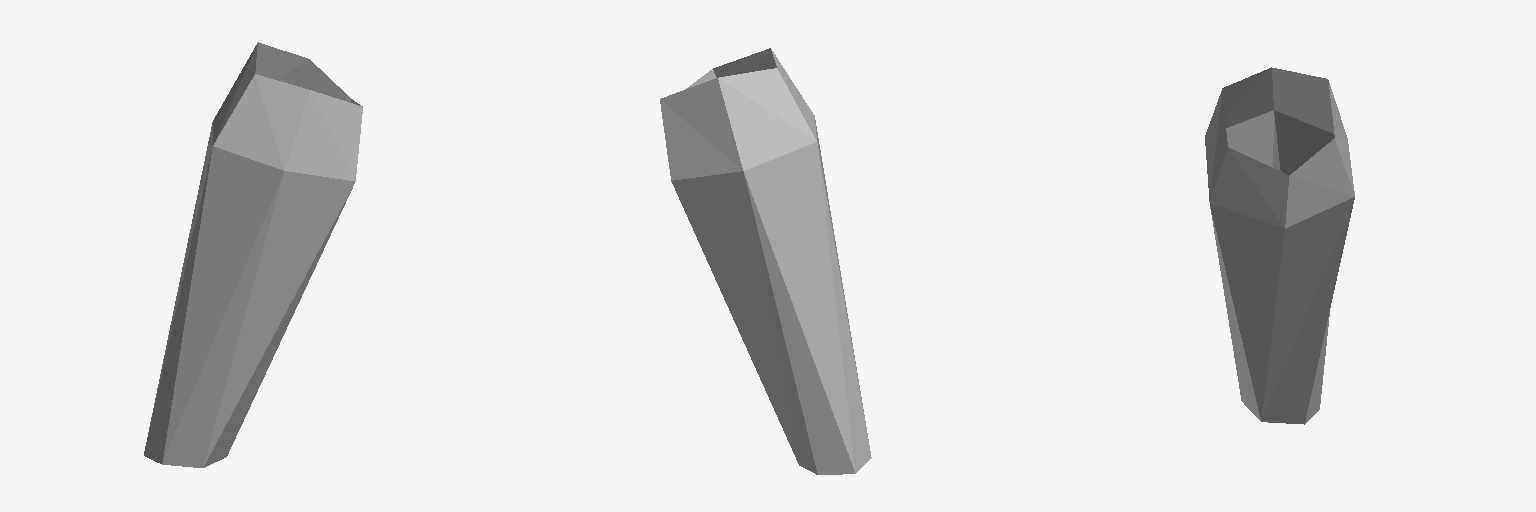
File: CodoDerecho.obj
The picture shows the model from 3 angles: view 1: azimuth 30°, elevation 25°; view 2: azimuth 150°, elevation 25°; view 3: azimuth 270°, elevation 25°; orthographic projection.
Visible parts, largest first — view 1: CodoDerecho_Mesh_0030.002; view 2: CodoDerecho_Mesh_0030.002; view 3: CodoDerecho_Mesh_0030.002.
Boxes of the visible parts, box(x1,y1,x2,y2) form: CodoDerecho_Mesh_0030.002: box(144, 42, 362, 467); CodoDerecho_Mesh_0030.002: box(660, 48, 871, 474); CodoDerecho_Mesh_0030.002: box(1205, 67, 1354, 424).
Bounding box in the file's own units: 4.61 × 8.34 × 3.